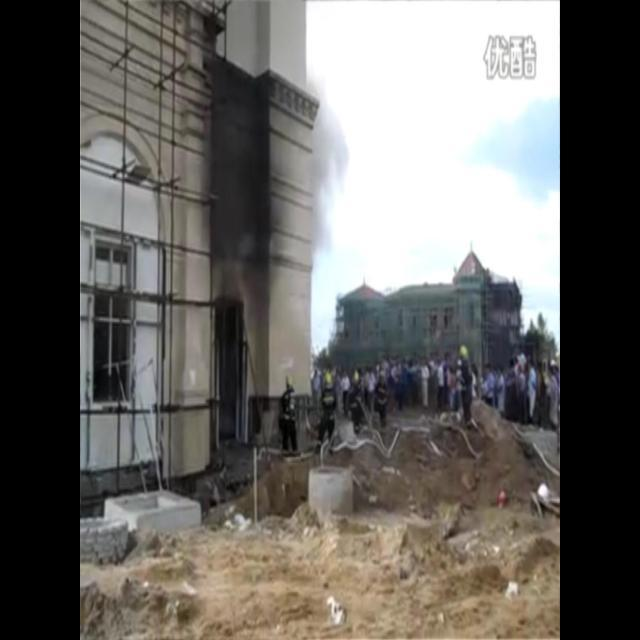Smoke: (192, 44, 350, 344)
